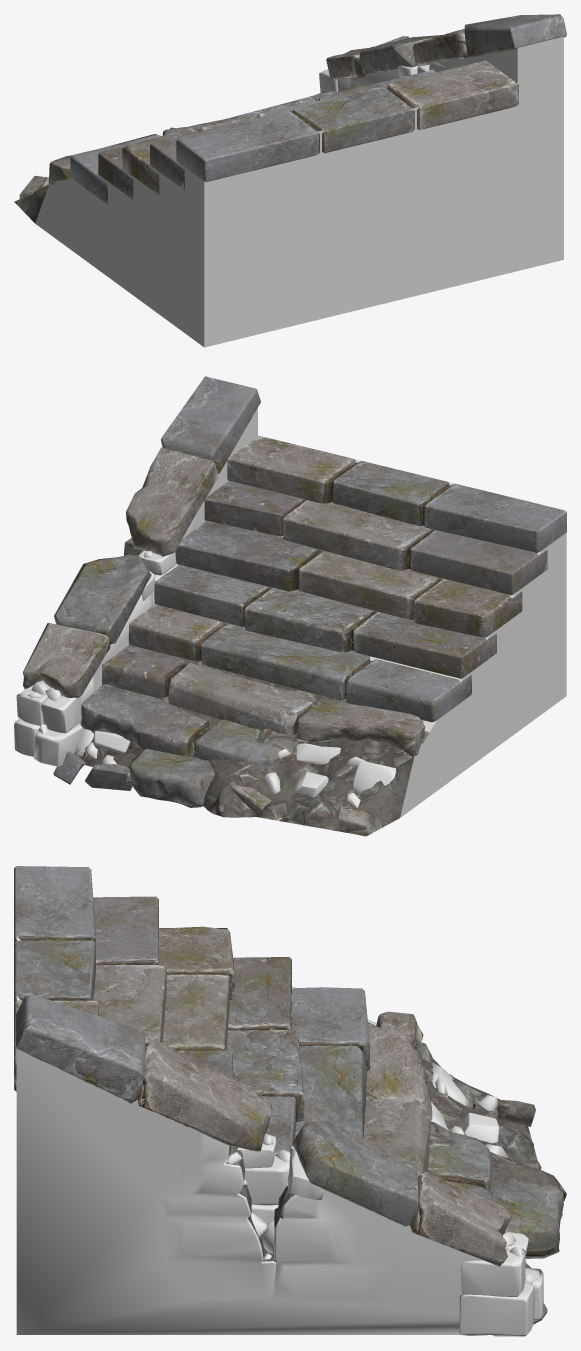
3 views of the same model, one above another, from view 1: azimuth 30°, elevation 25°; view 2: azimuth 150°, elevation 25°; view 3: azimuth 270°, elevation 25° (orthographic). The views are drawn at different scales.
Parts seen in each view (by area): view 1: SM_DR_Steps_4x2_01_v1_DMG_LOD0; view 2: SM_DR_Steps_4x2_01_v1_DMG_LOD0; view 3: SM_DR_Steps_4x2_01_v1_DMG_LOD0.
Part boxes in pixels (<box>): SM_DR_Steps_4x2_01_v1_DMG_LOD0: <box>14,14,566,347</box>; SM_DR_Steps_4x2_01_v1_DMG_LOD0: <box>14,376,566,836</box>; SM_DR_Steps_4x2_01_v1_DMG_LOD0: <box>14,865,566,1336</box>.
Bounding box in the file's own units: 4.13 × 2.72 × 4.12.
3 materials, 2 textured.
